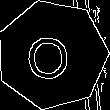O_N: (30, 28, 76, 81)
